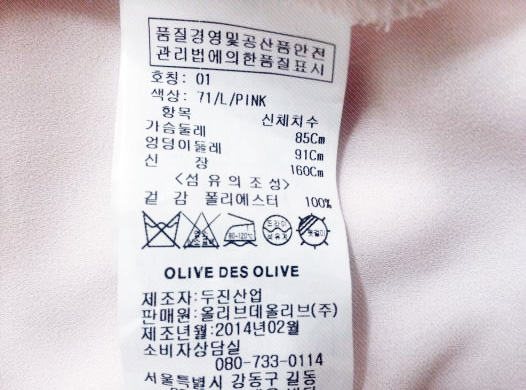do_not_wash: (140, 209, 182, 250)
